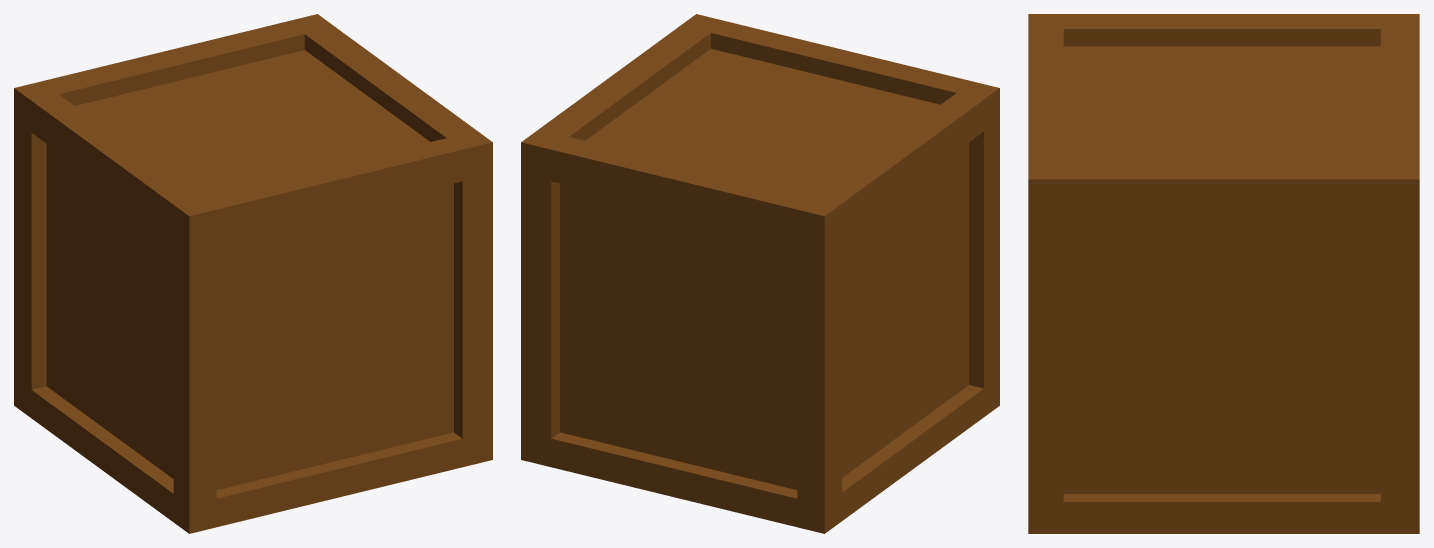
File: Crate.fbx
The picture shows the model from 3 angles, left to right: view 1: azimuth 30°, elevation 25°; view 2: azimuth 150°, elevation 25°; view 3: azimuth 270°, elevation 25°; orthographic projection. The views are drawn at different scales.
Parts seen in each view (by area): view 1: Crate; view 2: Crate; view 3: Crate.
Boxes of the visible parts, x1,y1,x2,y2 form: Crate: [14, 14, 492, 533]; Crate: [521, 14, 999, 533]; Crate: [1028, 14, 1419, 533].
Bounding box in the file's own units: 2.55 × 2.55 × 2.55.
